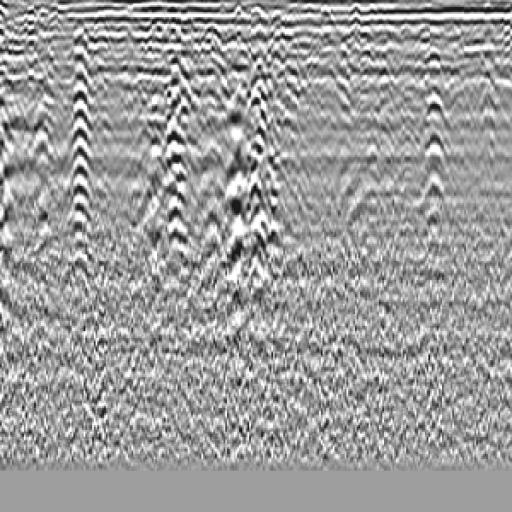non-metallic: (218, 52, 320, 294), (139, 41, 228, 291), (41, 21, 125, 254), (400, 45, 480, 253)
